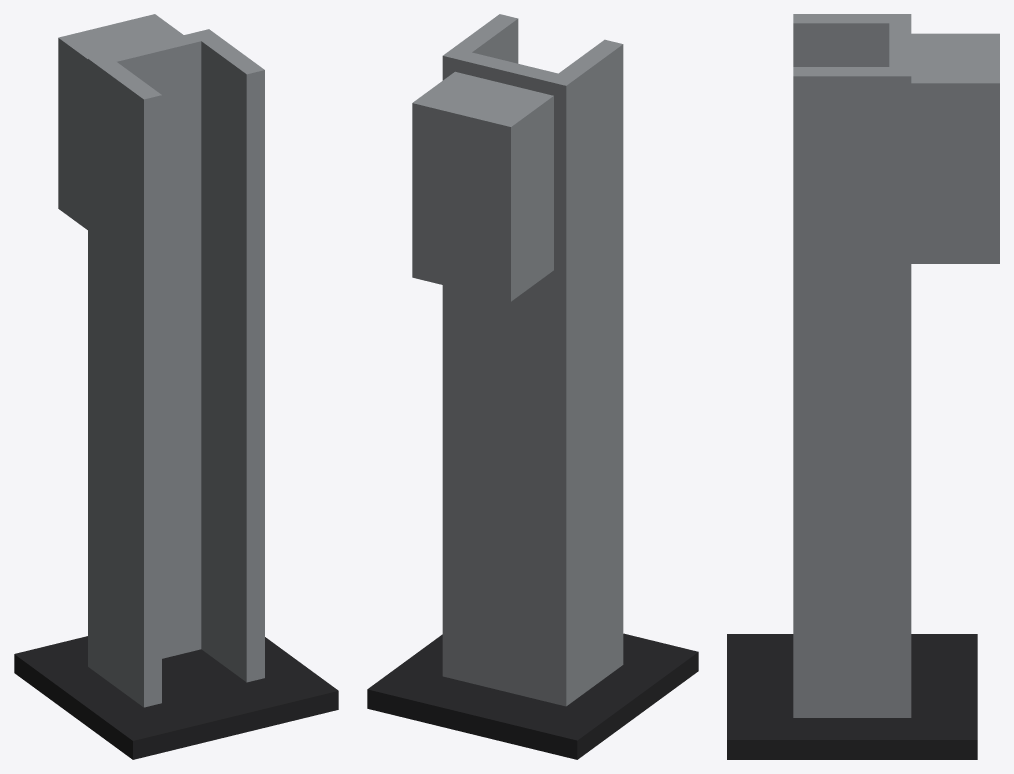
Rendered from guardrail_box_beam_post_up.obj.
The picture shows the model from 3 angles, left to right: view 1: azimuth 30°, elevation 25°; view 2: azimuth 150°, elevation 25°; view 3: azimuth 270°, elevation 25°; orthographic projection. The views are drawn at different scales.
Parts seen in each view (by area): view 1: guardrail_box_beam_post_up; view 2: guardrail_box_beam_post_up; view 3: guardrail_box_beam_post_up.
Boxes of the visible parts, x1,y1,x2,y2 form: guardrail_box_beam_post_up: (14,14,338,759); guardrail_box_beam_post_up: (367,14,698,759); guardrail_box_beam_post_up: (727,14,999,759).
Size of the model in its own units: 0.425 by 1.24 by 0.4625.
